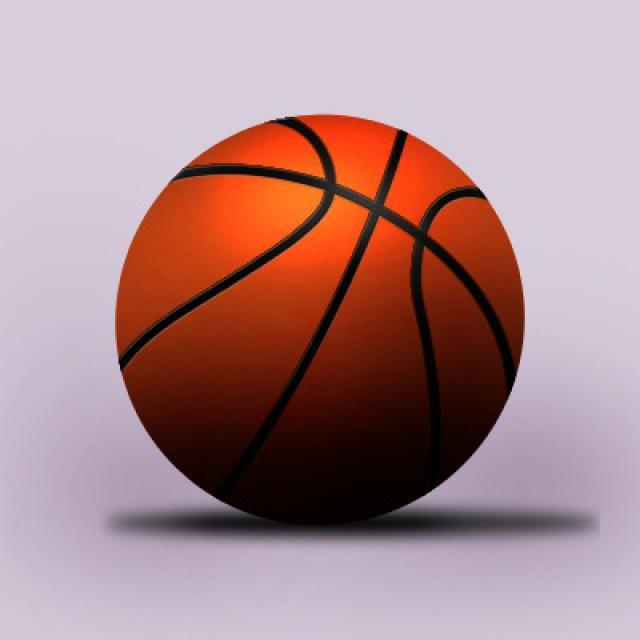basketball: (115, 107, 530, 522)
